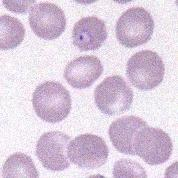Infected: (72, 16, 107, 50)
Uninfected: (109, 114, 150, 157), (32, 80, 72, 123), (126, 50, 166, 91), (93, 75, 133, 115), (132, 127, 172, 166), (115, 7, 153, 48), (36, 130, 74, 171), (66, 133, 109, 169), (29, 1, 66, 40), (63, 55, 103, 89), (2, 151, 38, 178), (0, 13, 25, 51)
